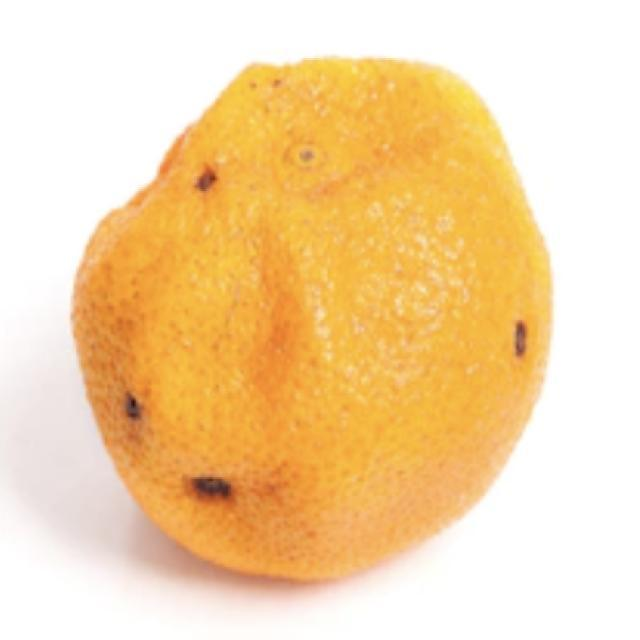sedikit-busuk: (73, 59, 551, 578)
